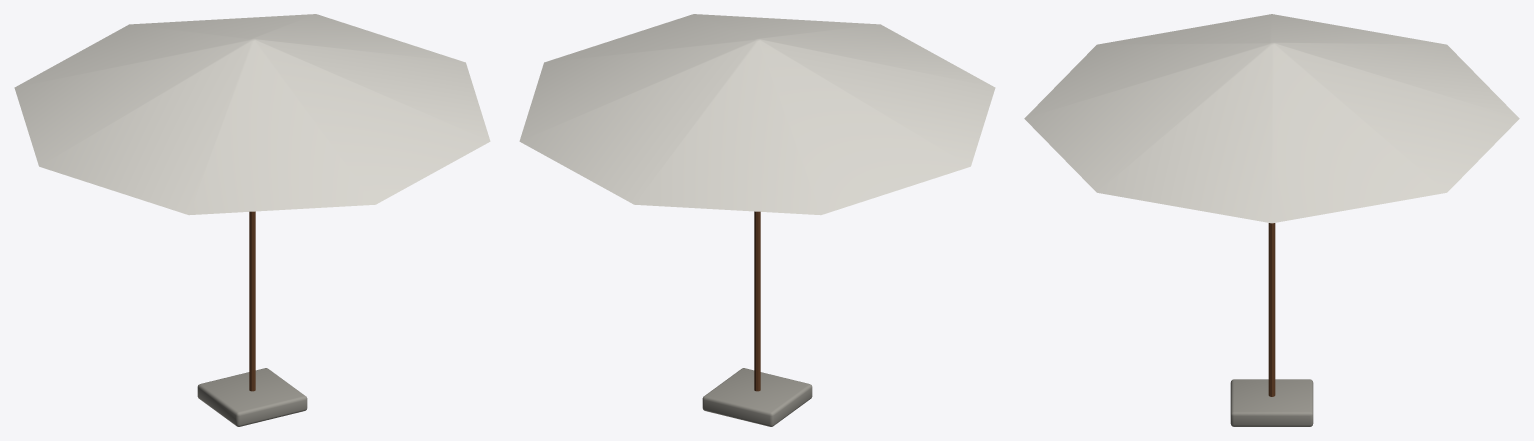
Rendered from street.garden.parasol.glb.
3 renders of one model, left to right at view 1: azimuth 30°, elevation 25°; view 2: azimuth 150°, elevation 25°; view 3: azimuth 270°, elevation 25°, orthographic.
Visible parts, largest first — view 1: main__fabric_white, main__concrete, main__hardwood; view 2: main__fabric_white, main__concrete, main__hardwood; view 3: main__fabric_white, main__concrete, main__hardwood.
Boxes of the visible parts, left/top/right/bottom form: main__fabric_white: left=14, top=14, right=490, bottom=215; main__concrete: left=197, top=368, right=307, bottom=426; main__hardwood: left=249, top=211, right=255, bottom=391; main__fabric_white: left=519, top=14, right=995, bottom=215; main__concrete: left=702, top=368, right=812, bottom=426; main__hardwood: left=754, top=211, right=760, bottom=391; main__fabric_white: left=1024, top=14, right=1519, bottom=223; main__concrete: left=1230, top=379, right=1313, bottom=426; main__hardwood: left=1268, top=223, right=1275, bottom=396.
Size of the model in its own units: 3 by 2.45 by 3.
